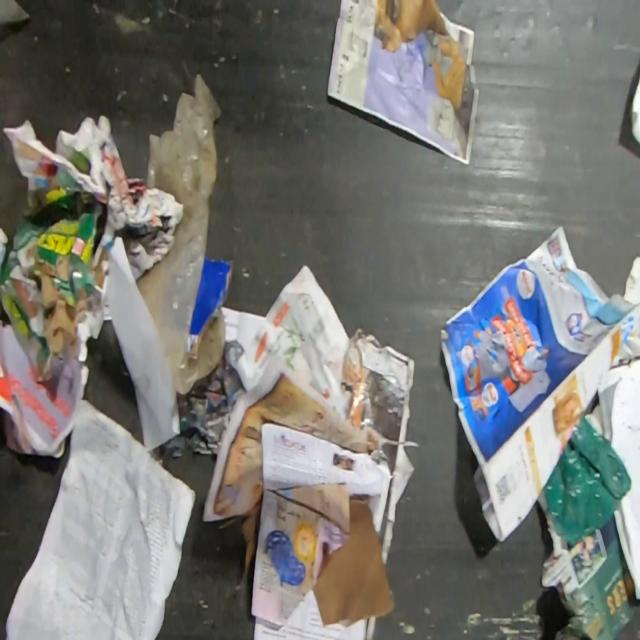cardboard: (0, 186, 106, 385), (539, 488, 640, 639), (312, 496, 395, 625), (186, 257, 236, 352)
soft_plastic: (135, 72, 227, 396), (542, 412, 631, 548)
